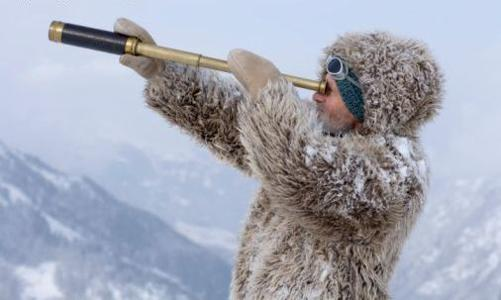person: (113, 14, 445, 300)
